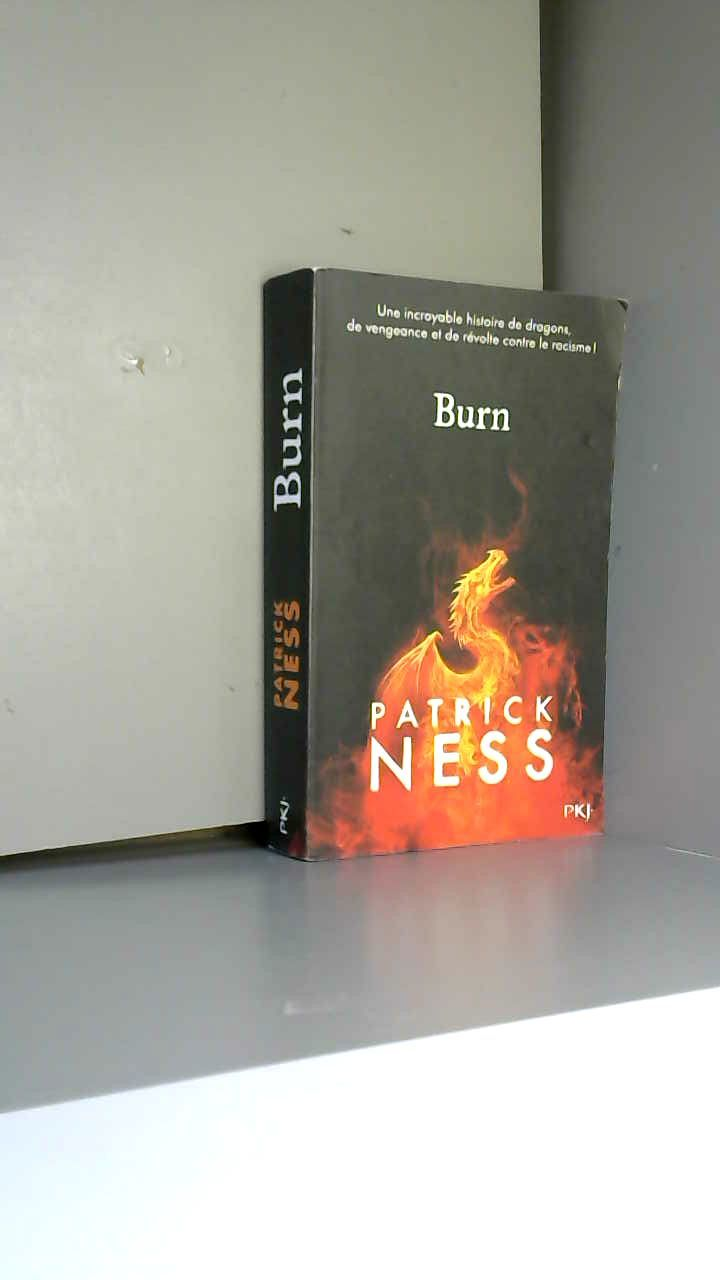book: (224, 239, 656, 895)
